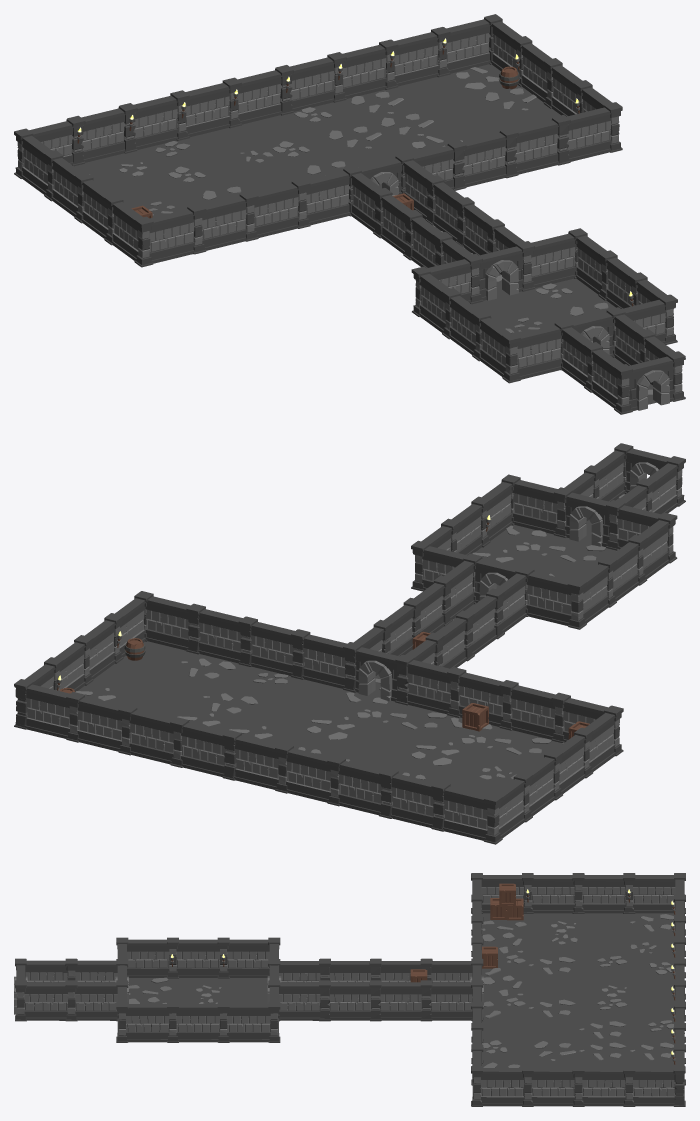
Rendered from Dungeon3.fbx.
3 views of the same model, one above another, from view 1: azimuth 30°, elevation 25°; view 2: azimuth 150°, elevation 25°; view 3: azimuth 270°, elevation 25° (orthographic). The views are drawn at different scales.
Parts seen in each view (by area): view 1: Cube.009, Plane, Door.001, Door.003, Door.002, Door.004; view 2: Cube.009, Plane, Door.002, Door.004, Door.001, Door.003, Crate.010; view 3: Cube.009, Plane, Cube.091, Crate.006.
Part boxes in pixels (x1=…): Cube.009: x1=14, y1=19, x2=685, y2=414; Plane: x1=74, y1=64, x2=656, y2=404; Door.001: x1=464, y1=246, x2=524, y2=304; Door.003: x1=628, y1=356, x2=674, y2=410; Door.002: x1=569, y1=307, x2=625, y2=357; Door.004: x1=358, y1=158, x2=402, y2=195; Cube.009: x1=20, y1=443, x2=685, y2=844; Plane: x1=75, y1=494, x2=625, y2=795; Door.002: x1=553, y1=487, x2=609, y2=546; Door.004: x1=354, y1=647, x2=399, y2=701; Door.001: x1=474, y1=559, x2=534, y2=616; Door.003: x1=625, y1=448, x2=670, y2=492; Crate.010: x1=462, y1=703, x2=488, y2=731; Cube.009: x1=15, y1=873, x2=685, y2=1106; Plane: x1=129, y1=913, x2=675, y2=1067; Cube.091: x1=673, y1=1066, x2=685, y2=1106; Crate.006: x1=499, y1=883, x2=515, y2=905.
Bounding box in the file's own units: 3696 × 319 × 5302.
